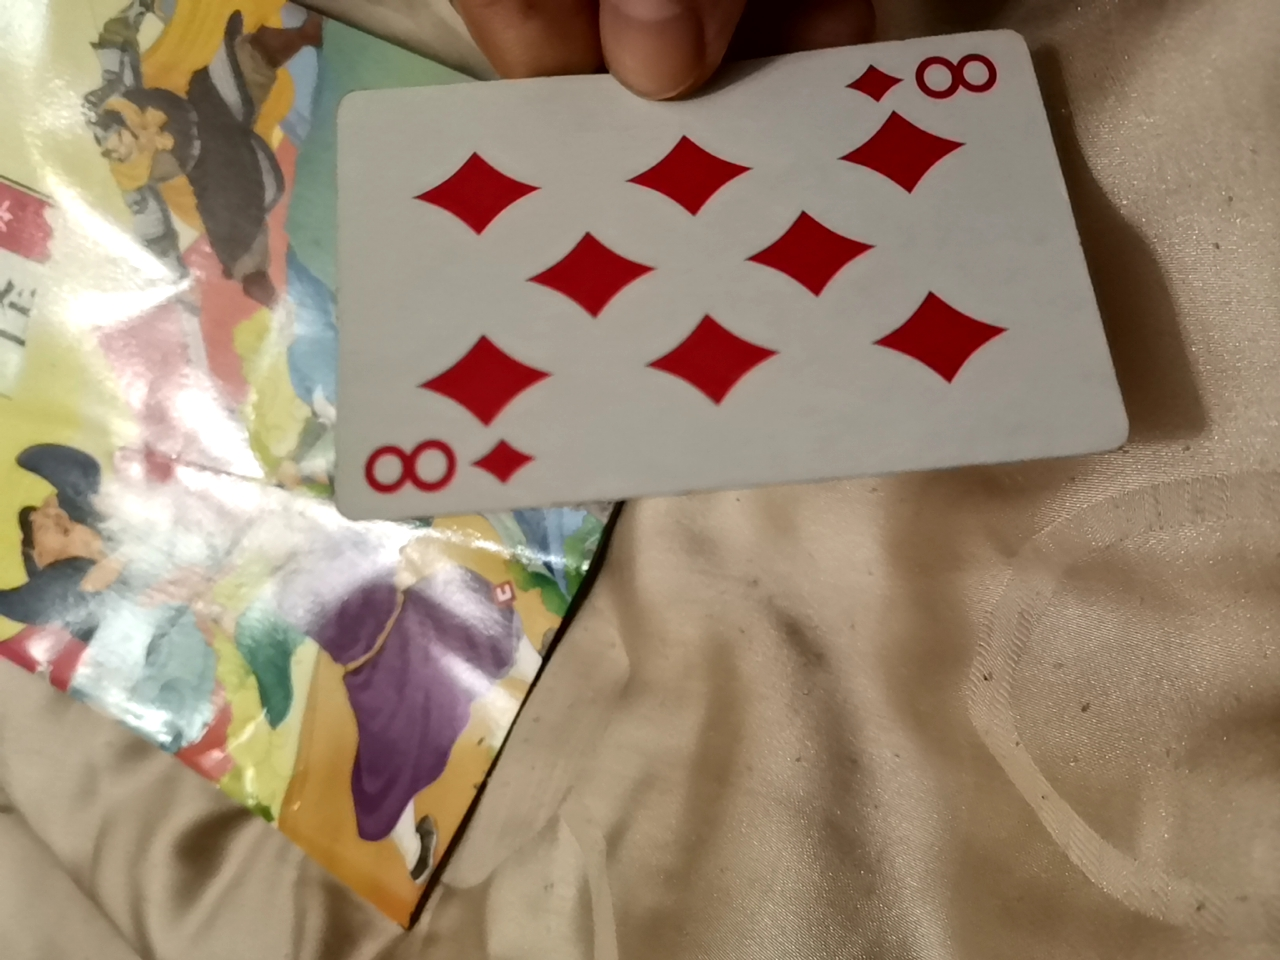fk 8: (329, 26, 1129, 498)
